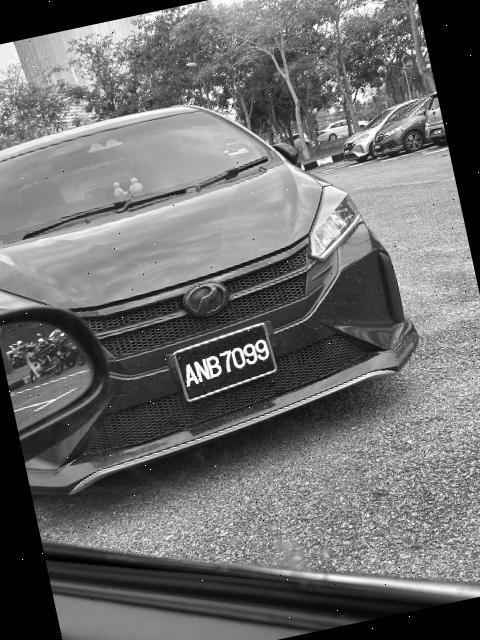ANB7099: (171, 321, 287, 407)
License_Plate: (171, 321, 287, 407)
car: (1, 63, 443, 507)
